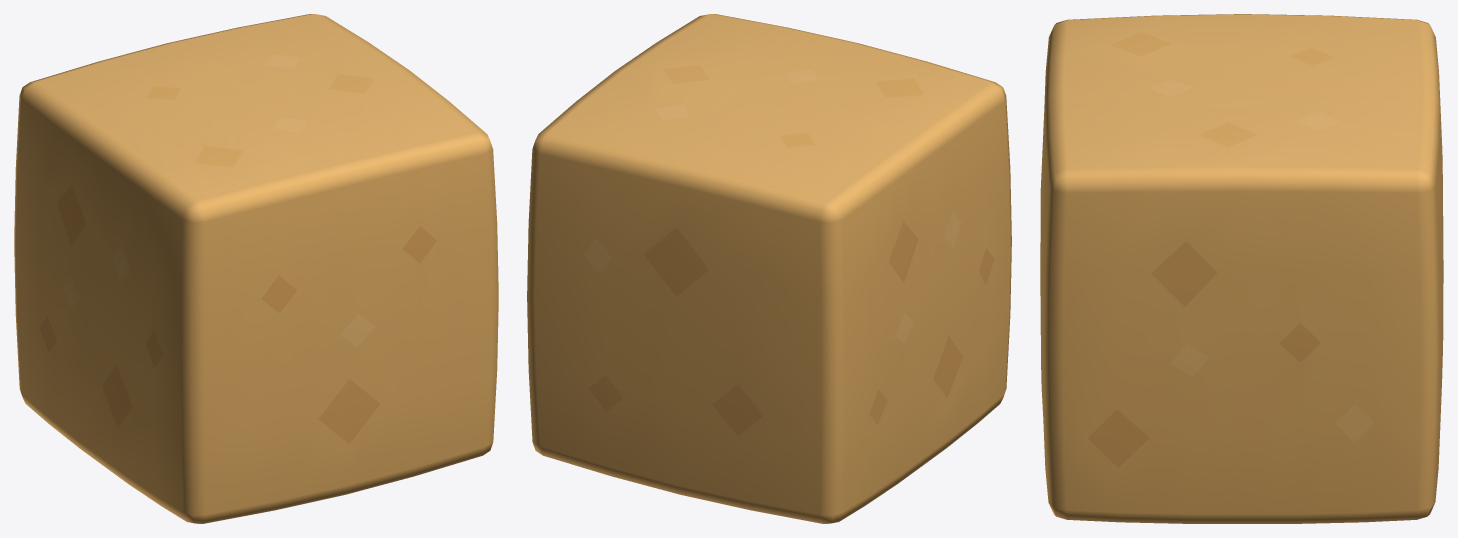
Rendered from block_sand_1.fbx.
The picture shows the model from 3 angles, left to right: view 1: azimuth 30°, elevation 25°; view 2: azimuth 150°, elevation 25°; view 3: azimuth 270°, elevation 25°; orthographic projection. The views are drawn at different scales.
Visible parts, largest first — view 1: block_sand1_1_LOD0; view 2: block_sand1_1_LOD0; view 3: block_sand1_1_LOD0.
Part boxes in pixels (x1,y1,x2,y2): block_sand1_1_LOD0: (14,14,498,523); block_sand1_1_LOD0: (527,14,1011,523); block_sand1_1_LOD0: (1040,14,1443,523).
Size of what is drawn, in the model's own units: 108 by 109 by 109.
